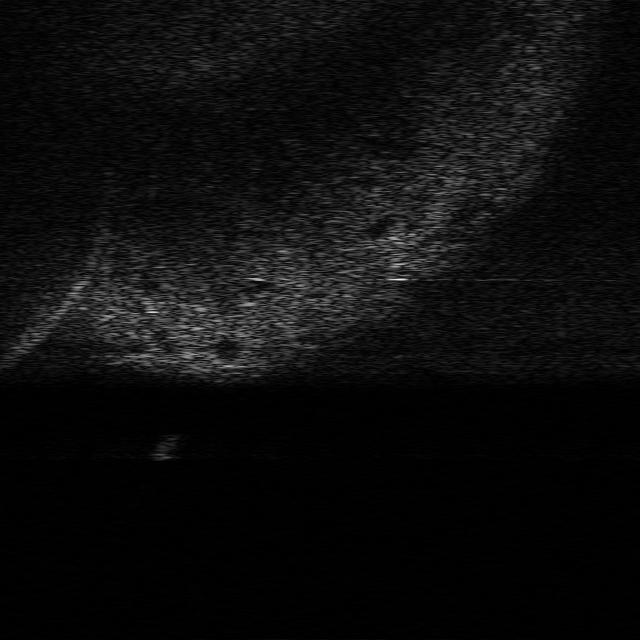cylinder: (150, 432, 181, 460)
